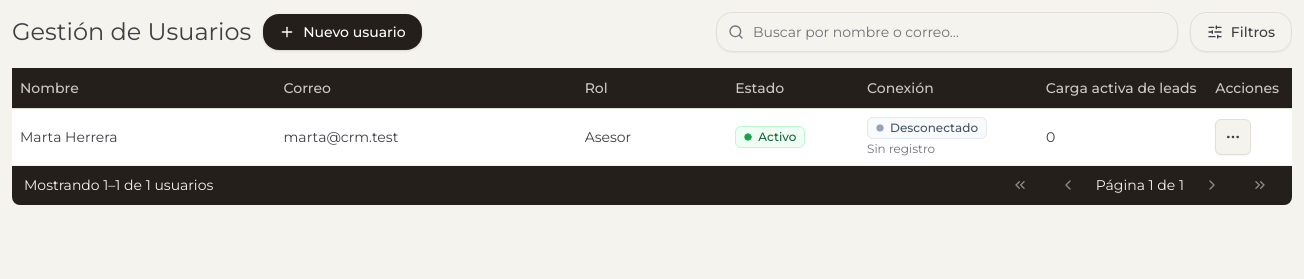
Test case: UsuariosPage — filtro (búsqueda, rol, estado, F7) › sin resultados con filtros activos, muestra un estado vacío distinto al de 'sin usuarios registrados'
The width and height of the screenshot is (1304, 279).
Expected: the text "Marta Herrera" is shown, [20, 128, 118, 146]
Type "nadie-coincide" into the field named "Buscar usuarios" at (947, 32), box [716, 12, 1178, 52]
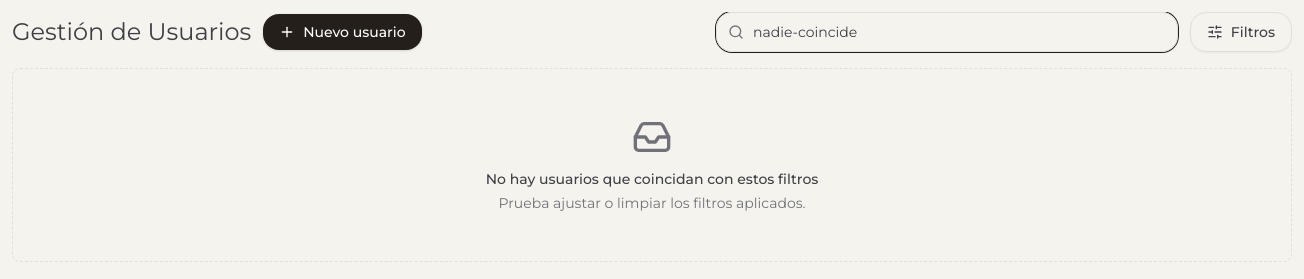
Now the text "No hay usuarios que coincidan con estos filtros" is shown, box [486, 169, 818, 189]
